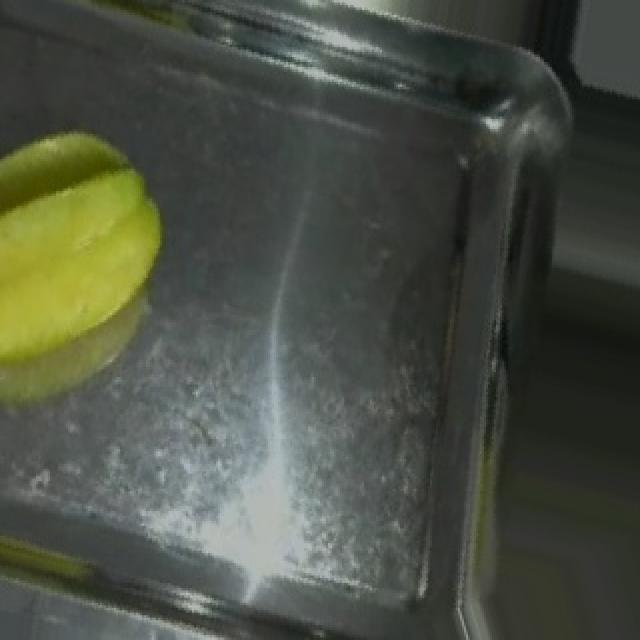fruit: (0, 84, 196, 434)
